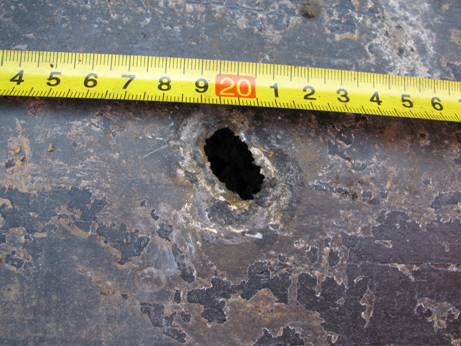Spalling: (203, 127, 266, 201)
